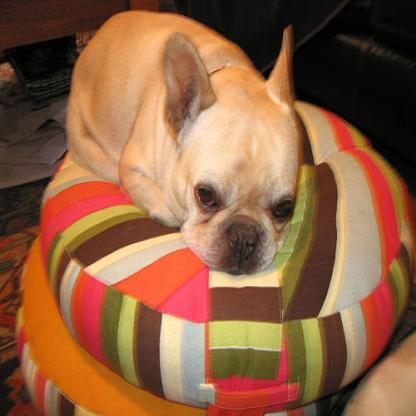French_bulldog: (61, 5, 303, 278)
